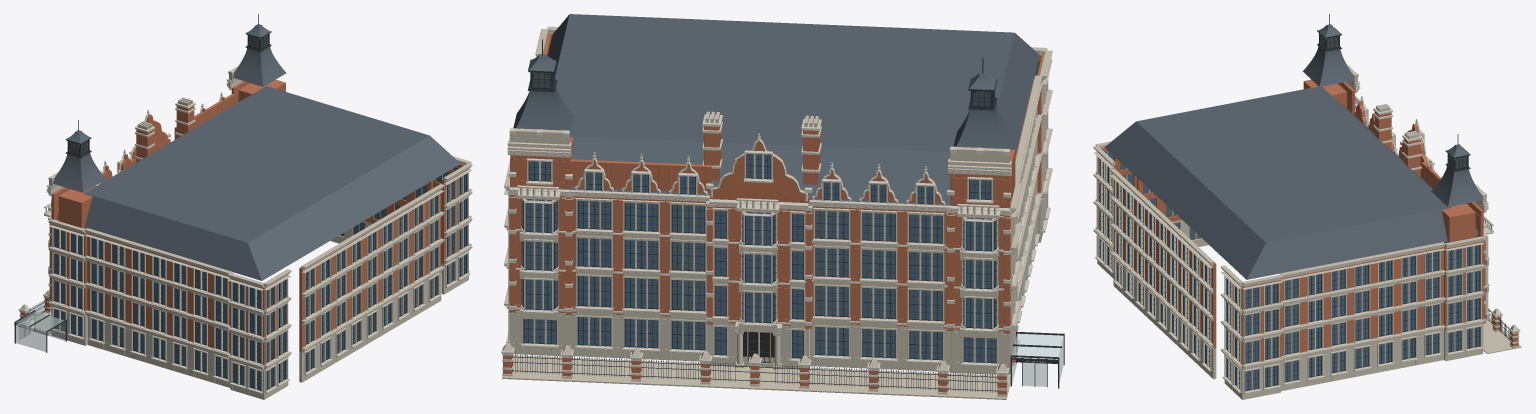
The model's file is sal-exterior-b7daa6d86dfb.glb.
3 views of the same model, side by side, from view 1: azimuth 30°, elevation 25°; view 2: azimuth 150°, elevation 25°; view 3: azimuth 270°, elevation 25° (orthographic). The views are drawn at different scales.
Parts seen in each view (by area): view 1: SAL.001; view 2: SAL.001; view 3: SAL.001.
Boxes of the visible parts, x1=… form: SAL.001: x1=14, y1=14, x2=472, y2=399; SAL.001: x1=501, y1=14, x2=1064, y2=399; SAL.001: x1=1093, y1=14, x2=1521, y2=399.
Size of the model in its own units: 68.11 by 33.89 by 61.15.
